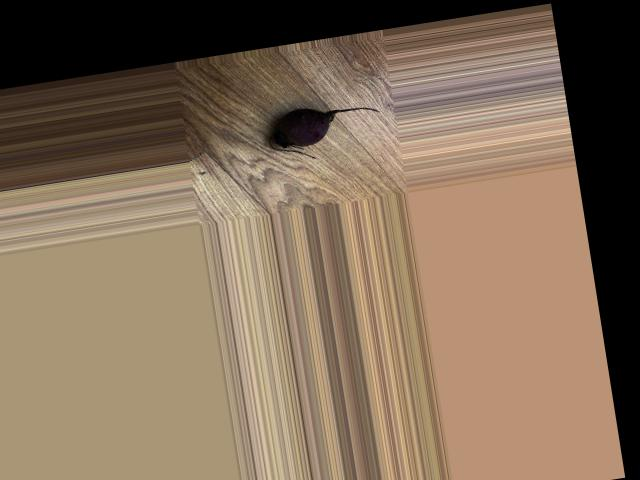beet: (265, 96, 385, 164)
